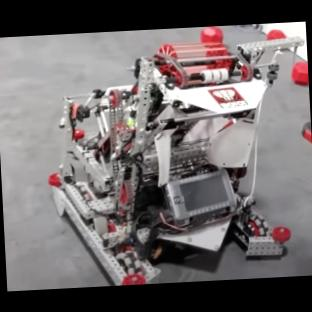Robot: (41, 40, 293, 289)
